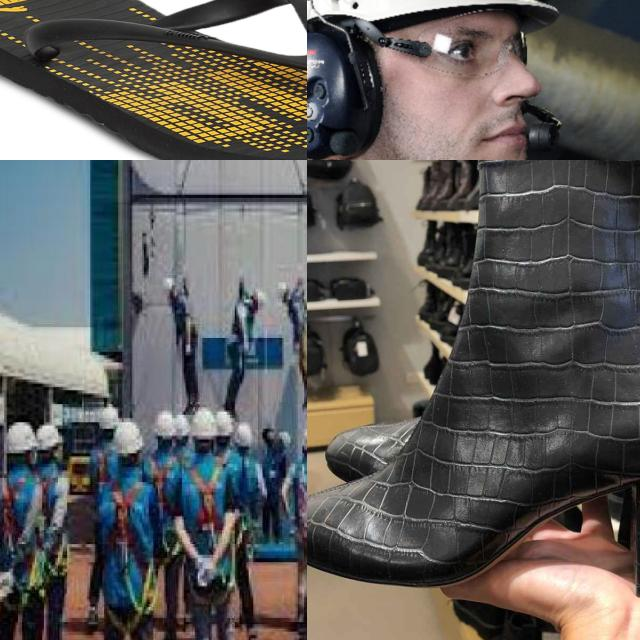Ear-protection: (307, 0, 565, 160)
Harness: (182, 460, 245, 605), (99, 478, 155, 633), (0, 473, 47, 611)
Sandals: (307, 160, 640, 624), (0, 0, 307, 160)
